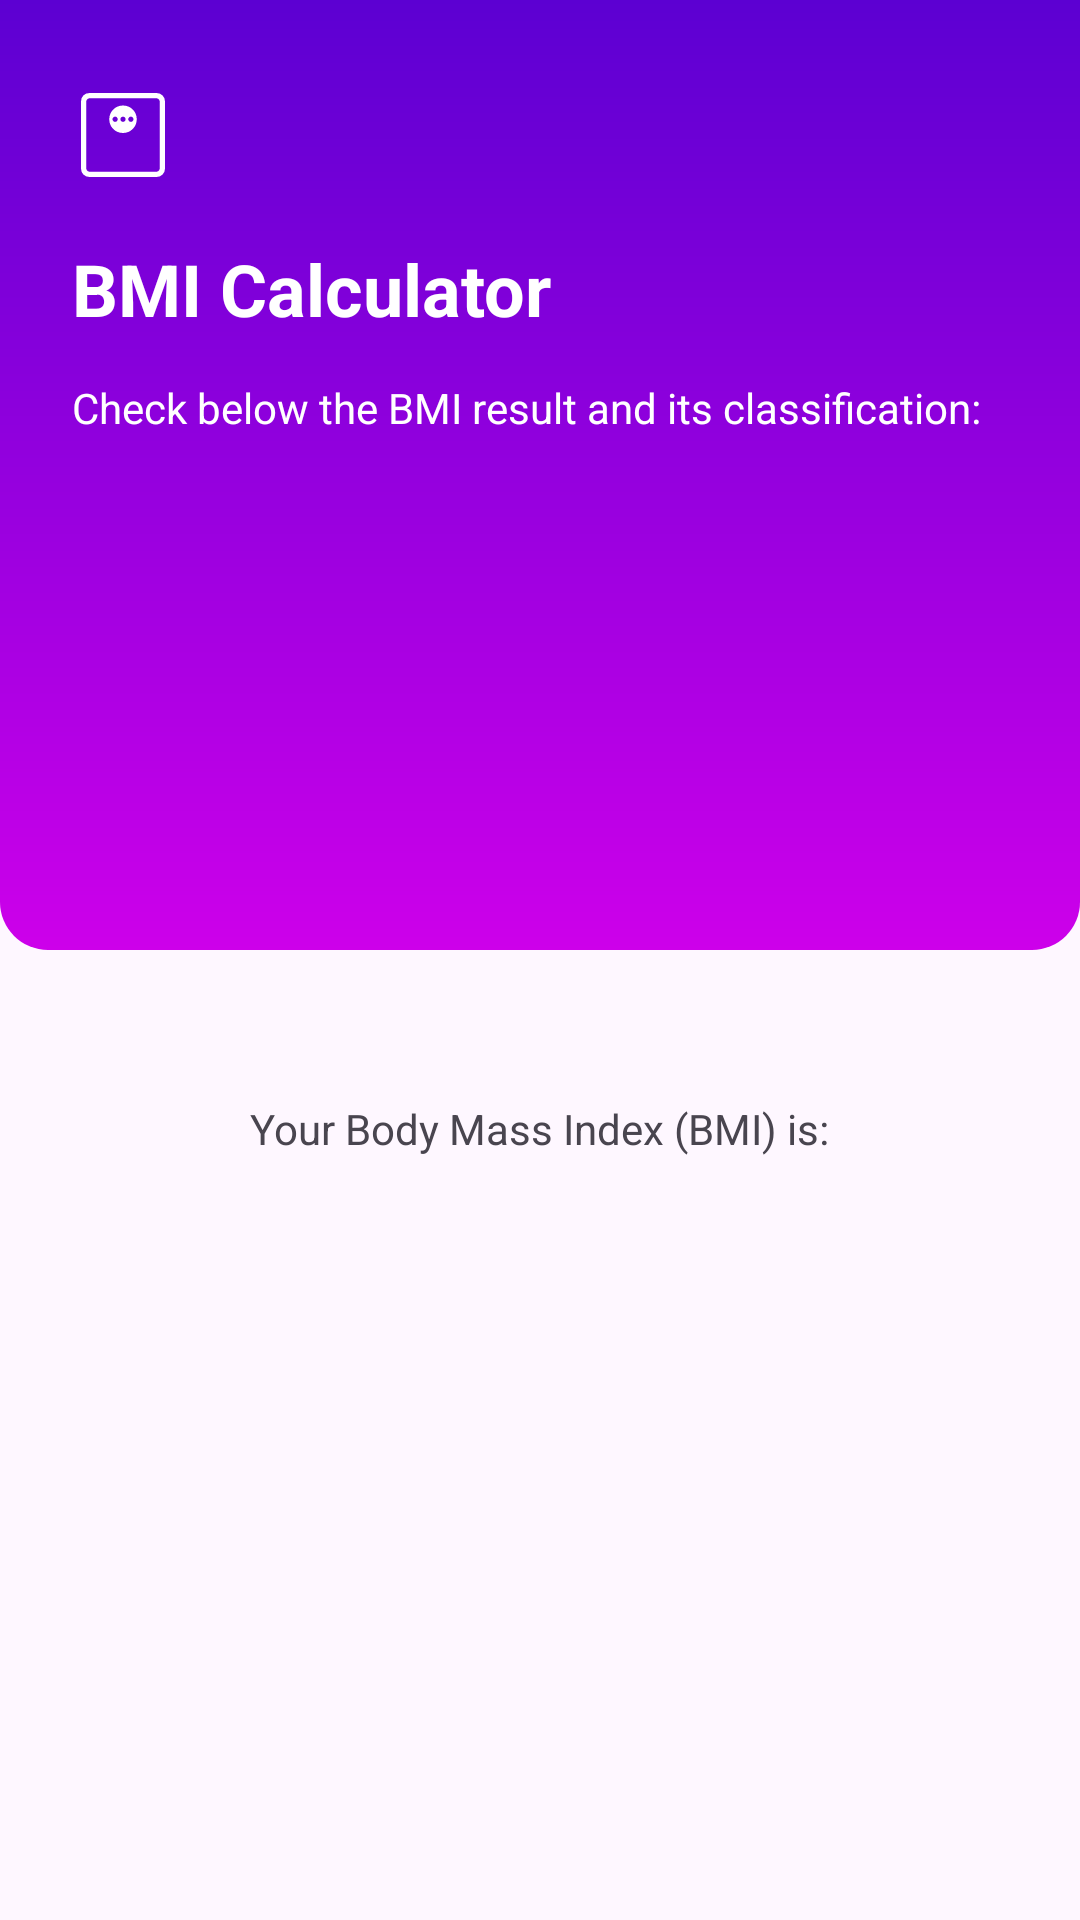

Screen size 1080×1920. Icon name, then its box in pixels as (x1, y1, x2, y2):
weight: (81, 93, 165, 177)
